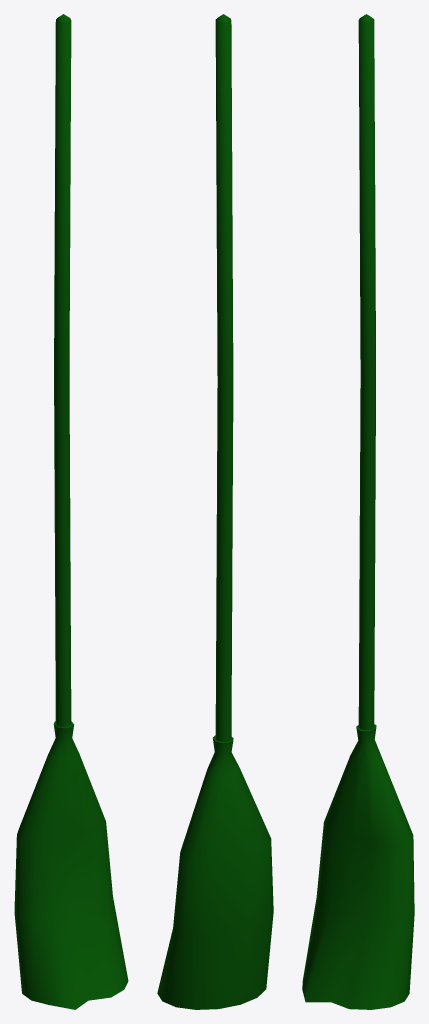
Rendered from various04.FBX.
3 renders of one model, left to right at view 1: azimuth 30°, elevation 25°; view 2: azimuth 210°, elevation 25°; view 3: azimuth 330°, elevation 25°, orthographic. The views are drawn at different scales.
Visible parts, largest first — view 1: SM_various04_0; view 2: SM_various04_0; view 3: SM_various04_0.
Boxes of the visible parts, x1,y1,x2,y2 form: SM_various04_0: (14,14,128,1009); SM_various04_0: (157,14,273,1009); SM_various04_0: (302,14,414,1009).
Size of the model in its own units: 14.32 by 13.37 by 136.
